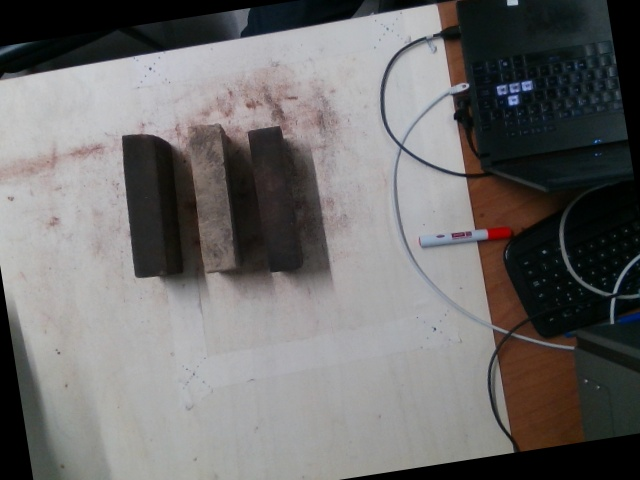brick-side: (246, 124, 299, 268), (190, 127, 234, 270), (121, 136, 160, 279)
